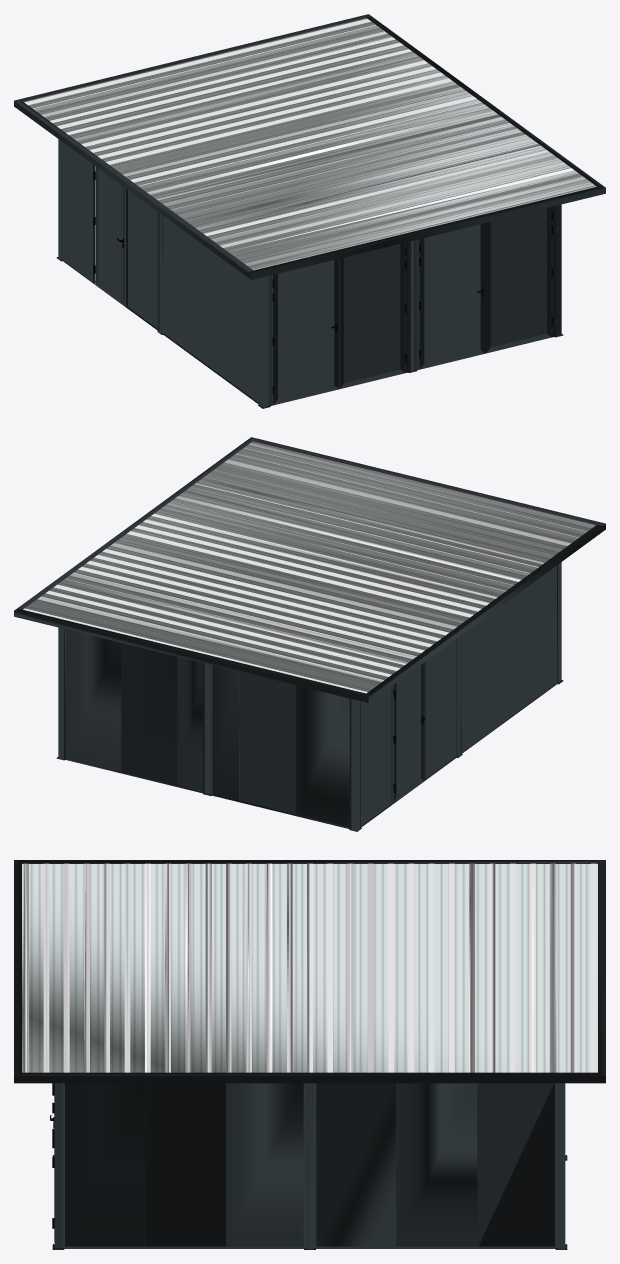
The picture shows the model from 3 angles, top to bottom: view 1: azimuth 30°, elevation 25°; view 2: azimuth 150°, elevation 25°; view 3: azimuth 270°, elevation 25°; orthographic projection. The views are drawn at different scales.
Visible parts, largest first — view 1: priximbattable_net_abris_de_voiture_640018_garage_toit_plat_, folha_4, folha_2, folha_5, folha_3, folha, porta_dupla, porta_dupla_1; view 2: priximbattable_net_abris_de_voiture_640018_garage_toit_plat_, folha, porta; view 3: priximbattable_net_abris_de_voiture_640018_garage_toit_plat_.
Boxes of the visible parts, x1=… form: priximbattable_net_abris_de_voiture_640018_garage_toit_plat_: x1=14, y1=14, x2=605, y2=408; folha_4: x1=485, y1=207, x2=552, y2=353; folha_2: x1=339, y1=242, x2=406, y2=389; folha_5: x1=419, y1=223, x2=485, y2=369; folha_3: x1=272, y1=259, x2=338, y2=405; folha: x1=93, y1=166, x2=125, y2=306; porta_dupla: x1=268, y1=242, x2=409, y2=405; porta_dupla_1: x1=415, y1=206, x2=555, y2=370; priximbattable_net_abris_de_voiture_640018_garage_toit_plat_: x1=14, y1=437, x2=605, y2=831; folha: x1=393, y1=663, x2=423, y2=803; porta: x1=391, y1=661, x2=425, y2=805; priximbattable_net_abris_de_voiture_640018_garage_toit_plat_: x1=14, y1=860, x2=605, y2=1249.
Size of the model in its own units: 630 by 259 by 730.
Materials: 1 (1 with a texture image).
